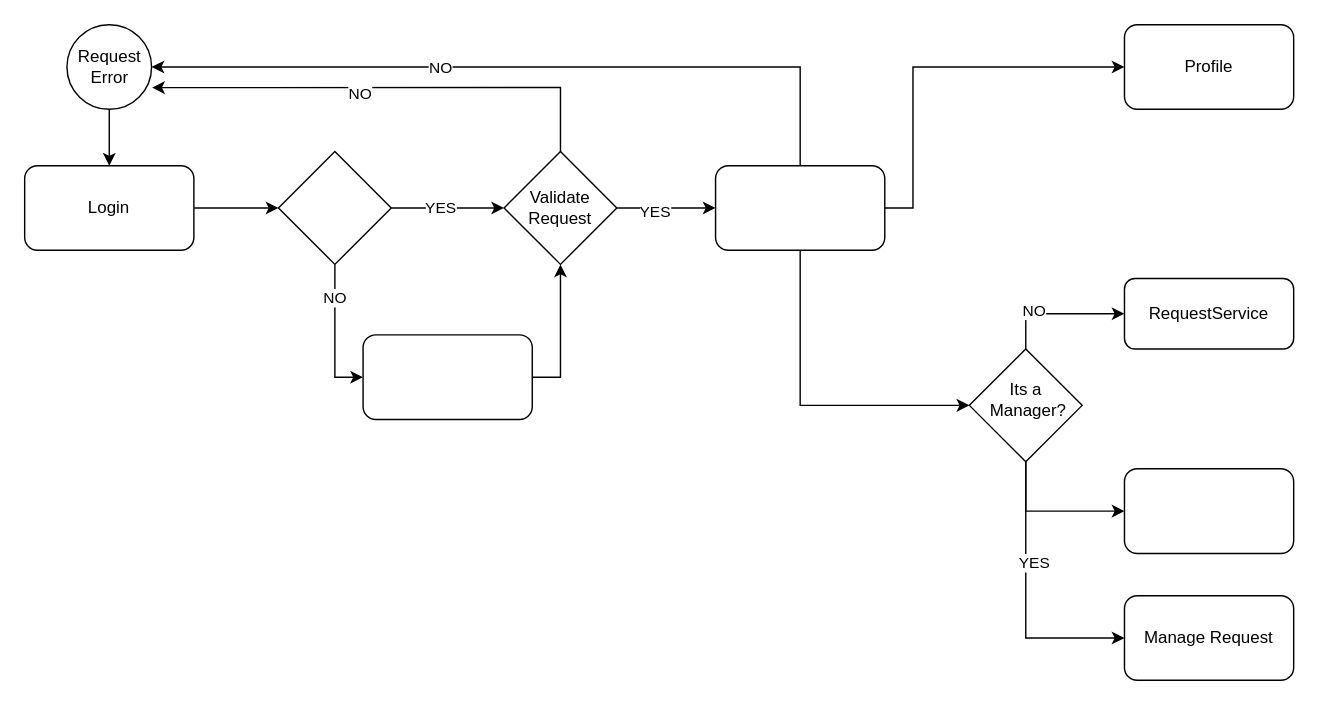
This 1318x705 diagram has some shape labels left out. Here are the shapes that lost their labels. From the top down, the box of each, then its label:
(277, 150, 391, 264): Has an account?
(714, 164, 885, 250): Home
(362, 333, 532, 419): Sign Up
(1123, 467, 1294, 553): Views Customers
